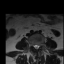CCS_normal: (35, 43, 37, 51)
LFS_normal: (39, 42, 41, 49)
LLS_normal: (37, 43, 39, 50)
RFS_normal: (31, 42, 33, 48)
RLS_normal: (33, 43, 35, 50)
